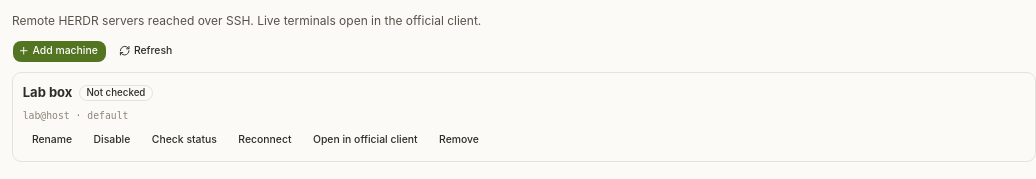
Scenario: MachinesPanel actions › checks status and renders the reported badge
Expected: the text "Lab box" is shown, [23,83,72,102]
Click the button "Check status" at (184, 140), box [143,128,226,151]
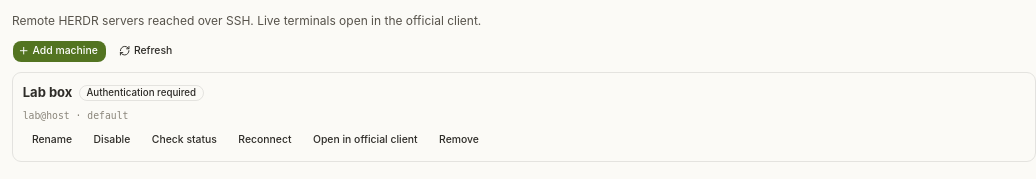
Now the text "Authentication required" is shown, box [79,85,204,101]
